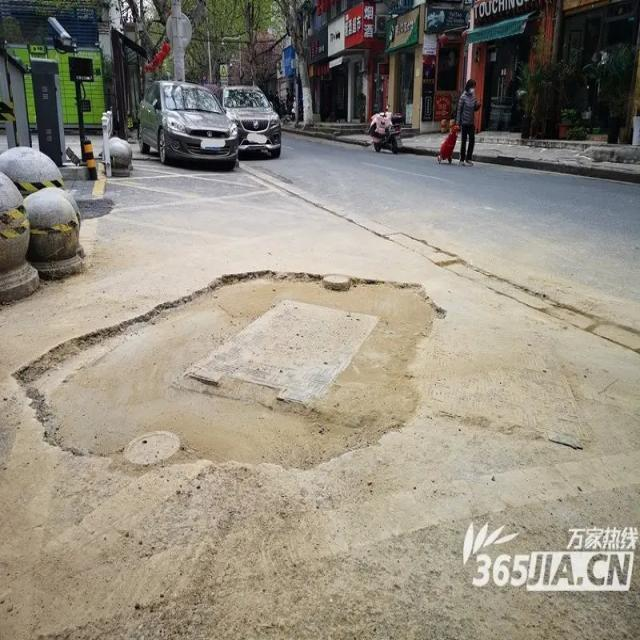Buraco: (8, 268, 450, 484)
